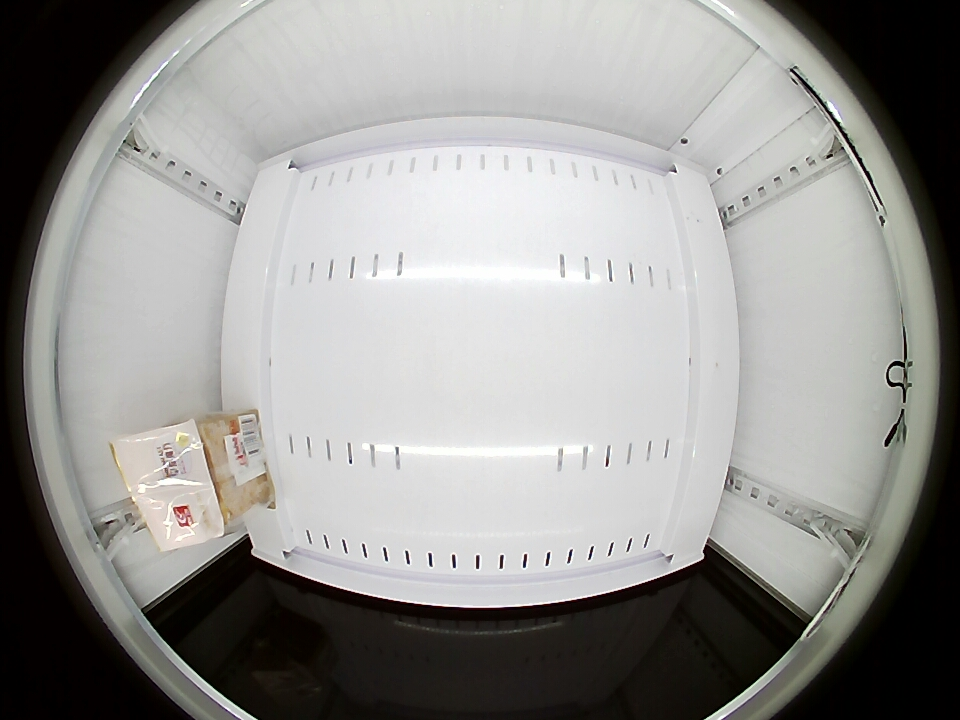zaocanmofang: (115, 419, 237, 550)
